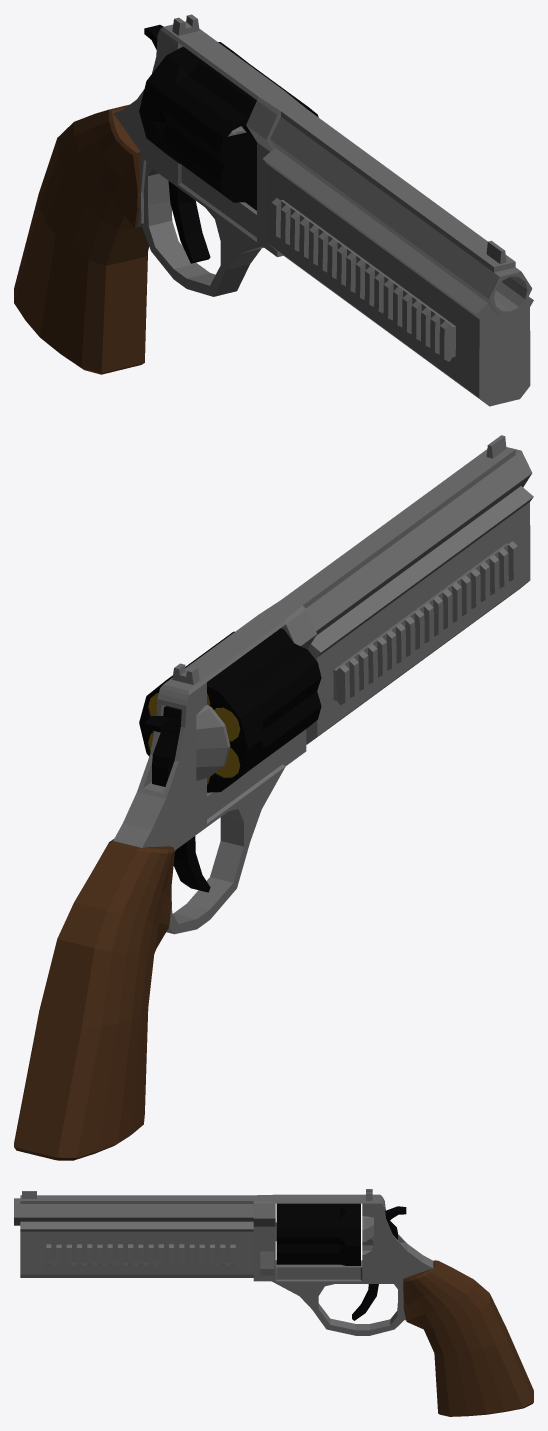
File: Revolver.fbx
3 views of the same model, one above another, from view 1: azimuth 30°, elevation 25°; view 2: azimuth 150°, elevation 25°; view 3: azimuth 270°, elevation 25° (orthographic). The views are drawn at different scales.
Parts seen in each view (by area): view 1: Body, Handle, Drum, Trigger Guard, Trigger; view 2: Body, Handle, Drum, Trigger Guard, Hammer, Trigger; view 3: Body, Handle, Drum, Trigger Guard, Drum Hinge, Trigger, Hammer.
Part boxes in pixels (x1,y1,x2,y2): Body: [113, 14, 533, 406]; Handle: [14, 104, 149, 374]; Drum: [139, 42, 318, 210]; Trigger Guard: [142, 161, 263, 296]; Trigger: [168, 181, 210, 263]; Body: [113, 435, 533, 847]; Handle: [14, 839, 174, 1160]; Drum: [139, 628, 321, 792]; Trigger Guard: [166, 767, 285, 934]; Hammer: [144, 706, 181, 786]; Trigger: [173, 836, 210, 892]; Body: [14, 1189, 433, 1320]; Handle: [403, 1260, 533, 1416]; Drum: [276, 1203, 360, 1265]; Trigger Guard: [272, 1281, 403, 1335]; Drum Hinge: [260, 1222, 276, 1275]; Trigger: [352, 1284, 378, 1320]; Hammer: [385, 1206, 406, 1239].
Bounding box in the file's own units: 2.36 × 8.23 × 17.8.
